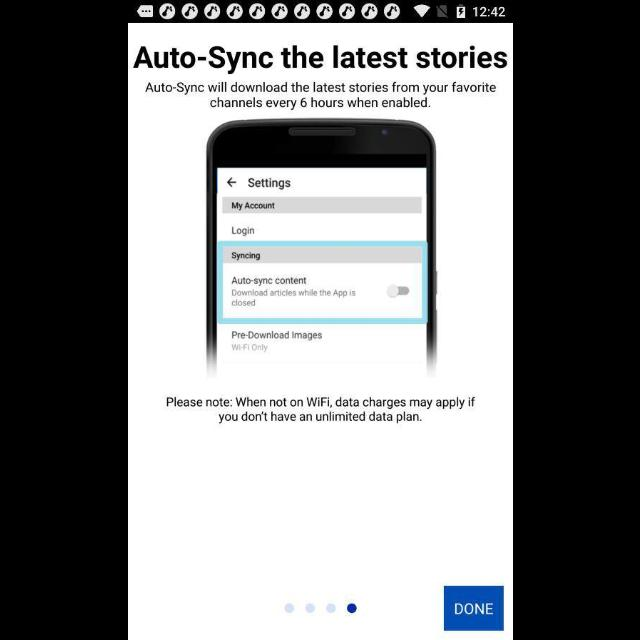image: (205, 118, 438, 378)
pageindicator: (283, 602, 357, 614)
text: (133, 45, 507, 75), (144, 82, 496, 110), (166, 396, 474, 424)
textbutton: (443, 586, 502, 630)
uppertaskbar: (128, 1, 512, 23)
